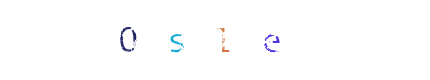0: (128, 0, 208, 80)
E: (183, 0, 263, 80)
L: (175, 0, 255, 80)
S: (151, 0, 231, 80)
